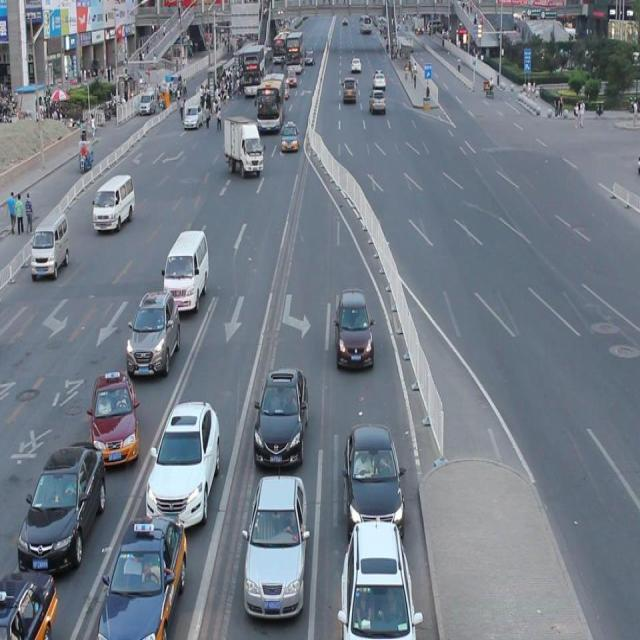BigCar: (252, 75, 288, 136), (239, 52, 266, 96)
car: (99, 512, 186, 640), (19, 439, 97, 573), (337, 521, 422, 640), (244, 470, 307, 626), (147, 397, 215, 531), (340, 417, 409, 535), (252, 364, 312, 475), (85, 368, 140, 465), (1, 559, 64, 640), (127, 287, 179, 383), (162, 223, 212, 316), (333, 281, 375, 374), (220, 112, 265, 182), (92, 167, 135, 240), (28, 214, 70, 287), (279, 116, 301, 154), (183, 102, 205, 133), (342, 73, 360, 105), (369, 84, 386, 116), (138, 92, 156, 117), (373, 66, 388, 92), (350, 54, 363, 74)
